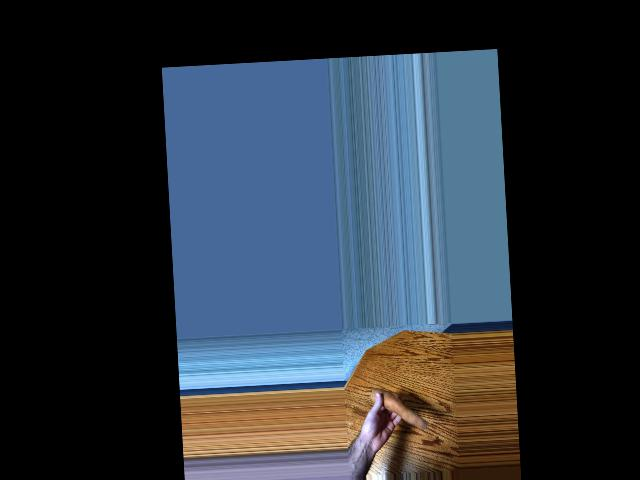sweet_potato: (371, 388, 427, 433)
